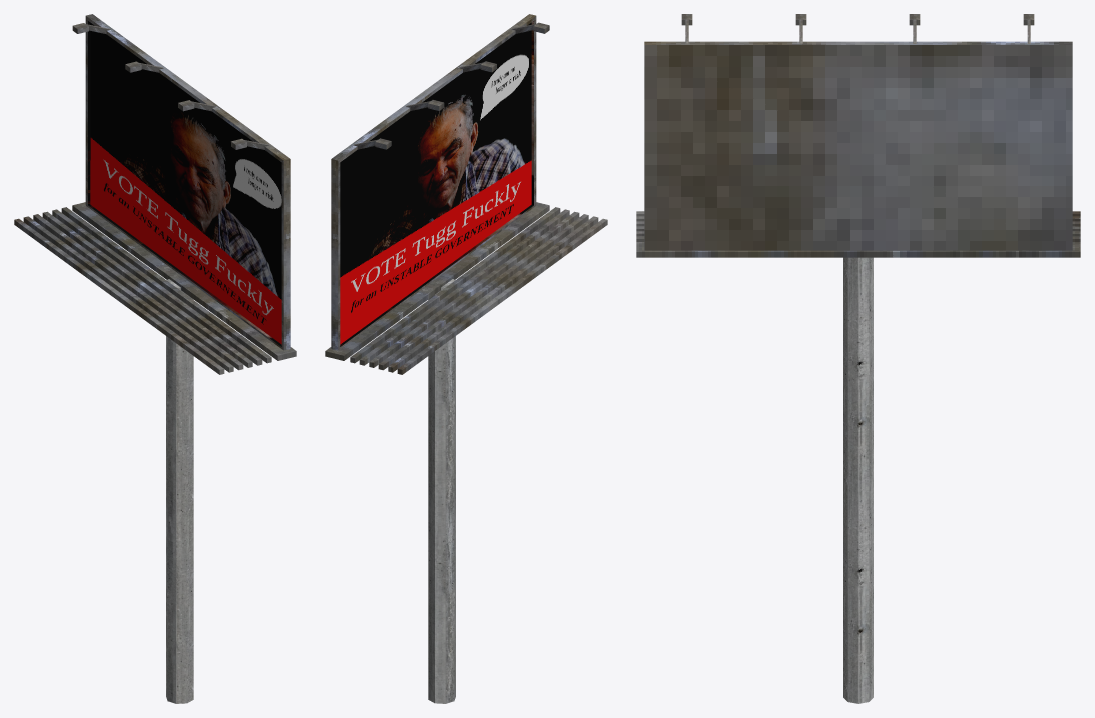
File: billboard.glb
3 views of the same model, side by side, from view 1: azimuth 30°, elevation 25°; view 2: azimuth 150°, elevation 25°; view 3: azimuth 270°, elevation 25° (orthographic). The views are drawn at different scales.
Visible parts, largest first — view 1: board, floor, Cylinder, Cube; view 2: board, floor, Cylinder, Cube; view 3: board, Cylinder, floor, Cube.
Part boxes in pixels (x1=…): board: x1=85, y1=14, x2=290, y2=350; floor: x1=14, y1=202, x2=296, y2=374; Cylinder: x1=166, y1=279, x2=193, y2=703; Cube: x1=72, y1=23, x2=268, y2=149; board: x1=331, y1=14, x2=536, y2=350; floor: x1=325, y1=202, x2=607, y2=374; Cylinder: x1=428, y1=279, x2=455, y2=703; Cube: x1=353, y1=22, x2=549, y2=149; board: x1=644, y1=41, x2=1072, y2=250; Cylinder: x1=843, y1=257, x2=873, y2=703; floor: x1=636, y1=211, x2=1080, y2=257; Cube: x1=681, y1=14, x2=1034, y2=43.
Bounding box in the file's own units: 6.11 × 46.88 × 28.2.
Materials: 3 (3 with a texture image).
